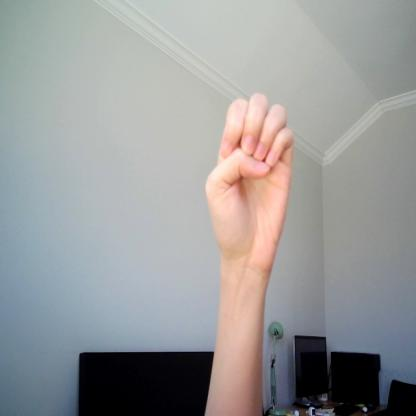E: (206, 94, 296, 276)
